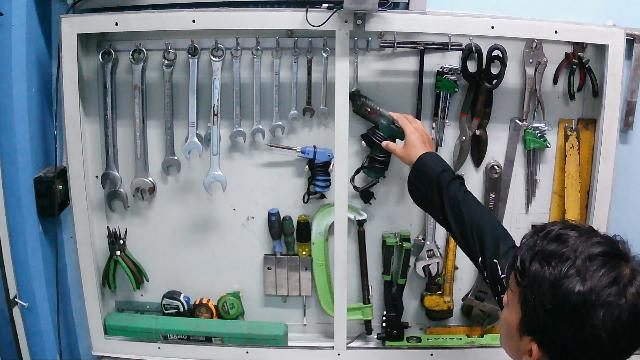gun_lem: (349, 89, 410, 207)
